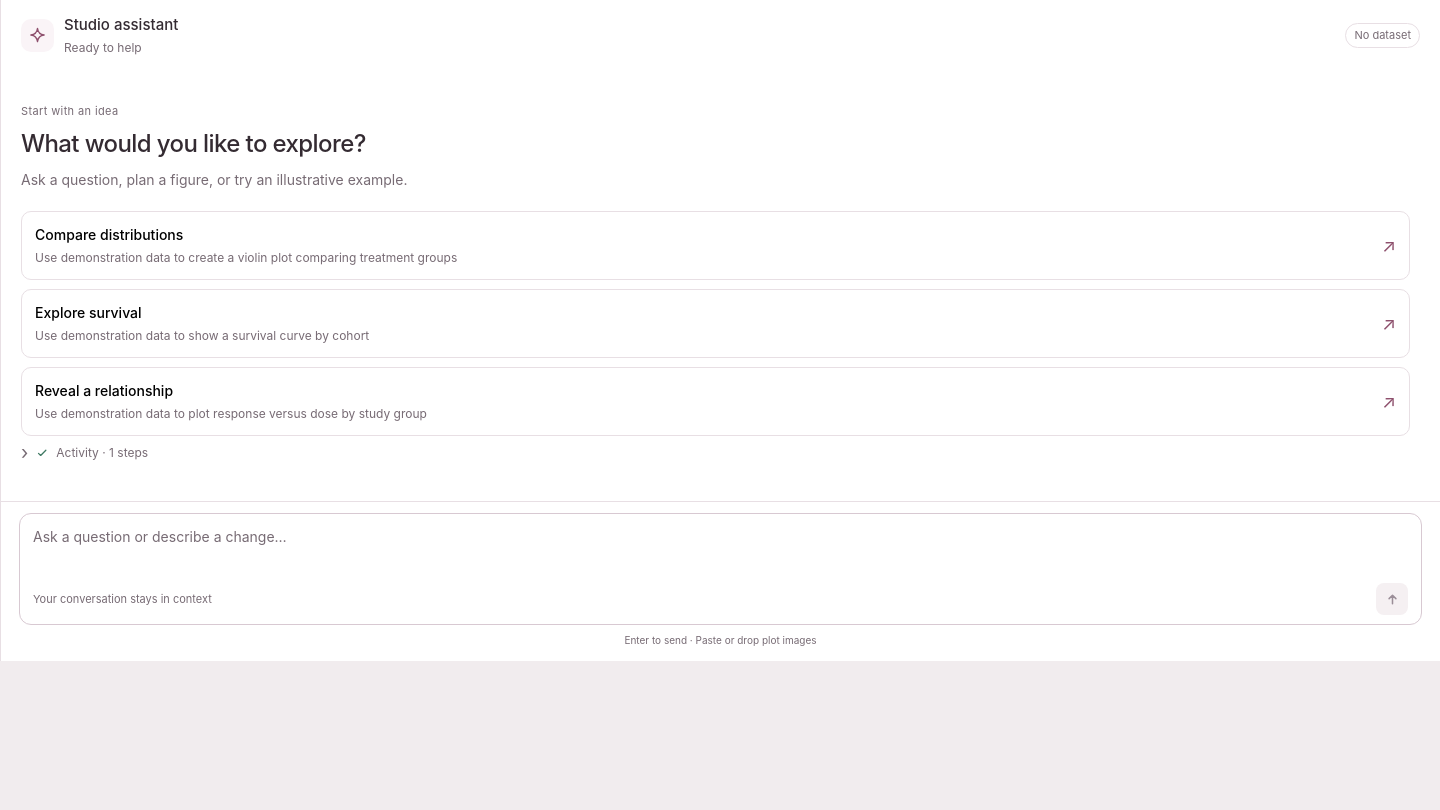
Test: shows agent activity inline while preserving the conversation input
This screenshot has width=1440, height=810.
Click the text "Activity · 1 steps" at (102, 453), box [56,444,148,462]
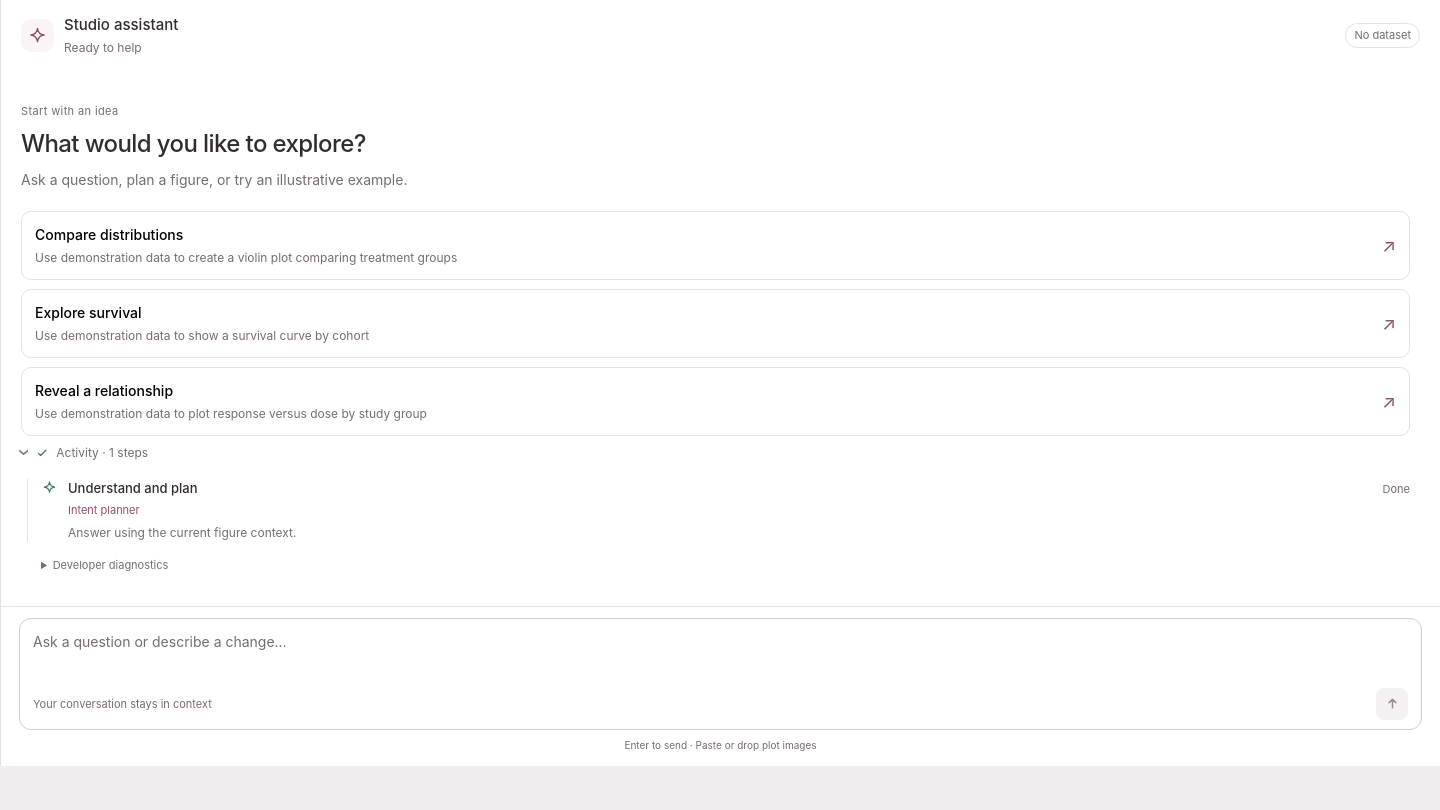
Expected: the text box named "Describe the plot you want" is shown, [33,631,1408,679]
Result: the text "Intent planner" is shown at [68,503,140,517]
Click the heading "Developer diagnostics" at (110, 565), box [53,558,168,572]
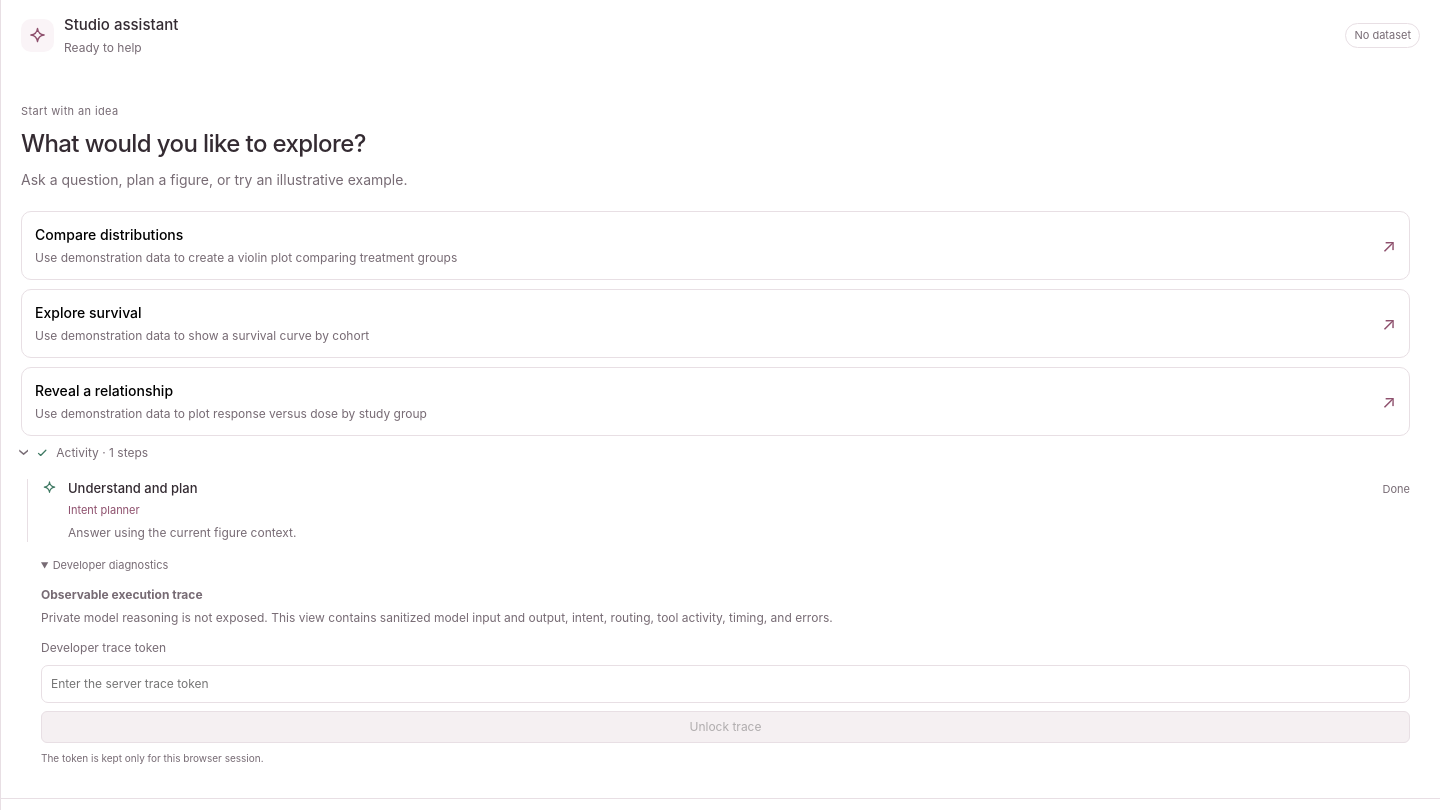
Result: the text "Private model reasoning is not exposed." is shown at [41,610,833,625]
Result: the password field labelled "Developer trace token" is shown at [41,665,1410,703]
